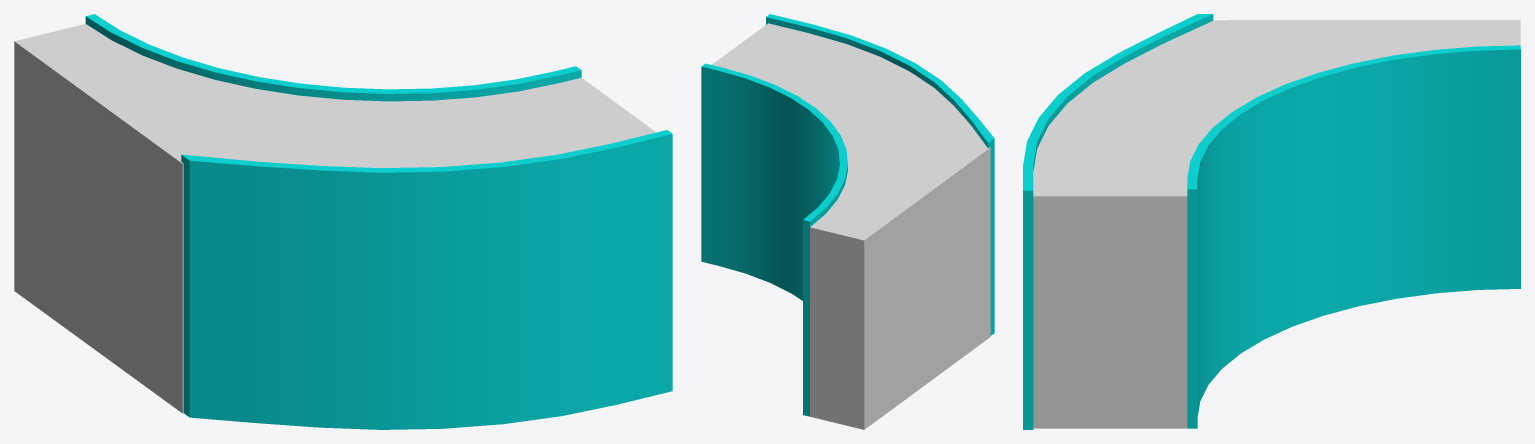
The model's file is HalfLeftRightCurve.fbx.
3 renders of one model, left to right at view 1: azimuth 30°, elevation 25°; view 2: azimuth 150°, elevation 25°; view 3: azimuth 270°, elevation 25°, orthographic. The views are drawn at different scales.
Parts seen in each view (by area): view 1: pCube52; view 2: pCube52; view 3: pCube52.
Part boxes in pixels (left/top/right/bottom): pCube52: left=14, top=14, right=672, bottom=429; pCube52: left=701, top=14, right=994, bottom=429; pCube52: left=1023, top=14, right=1520, bottom=429.
Bounding box in the file's own units: 81.99 × 51.5 × 97.07.
